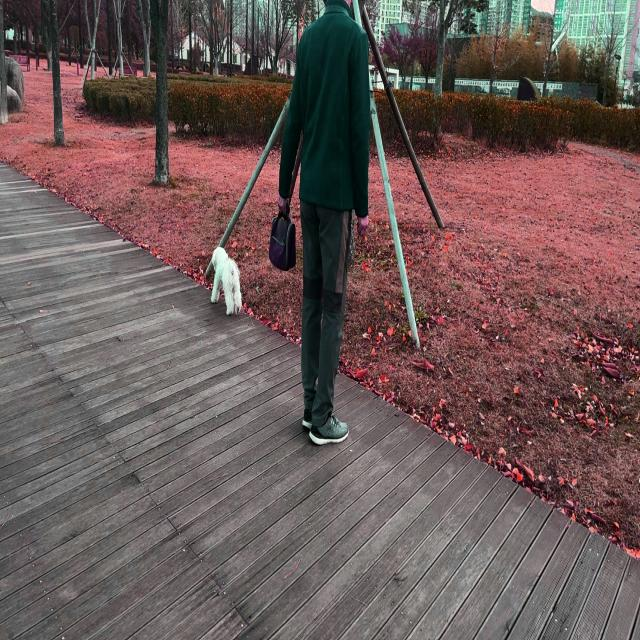Leashed_Dog: (210, 191, 318, 316)
